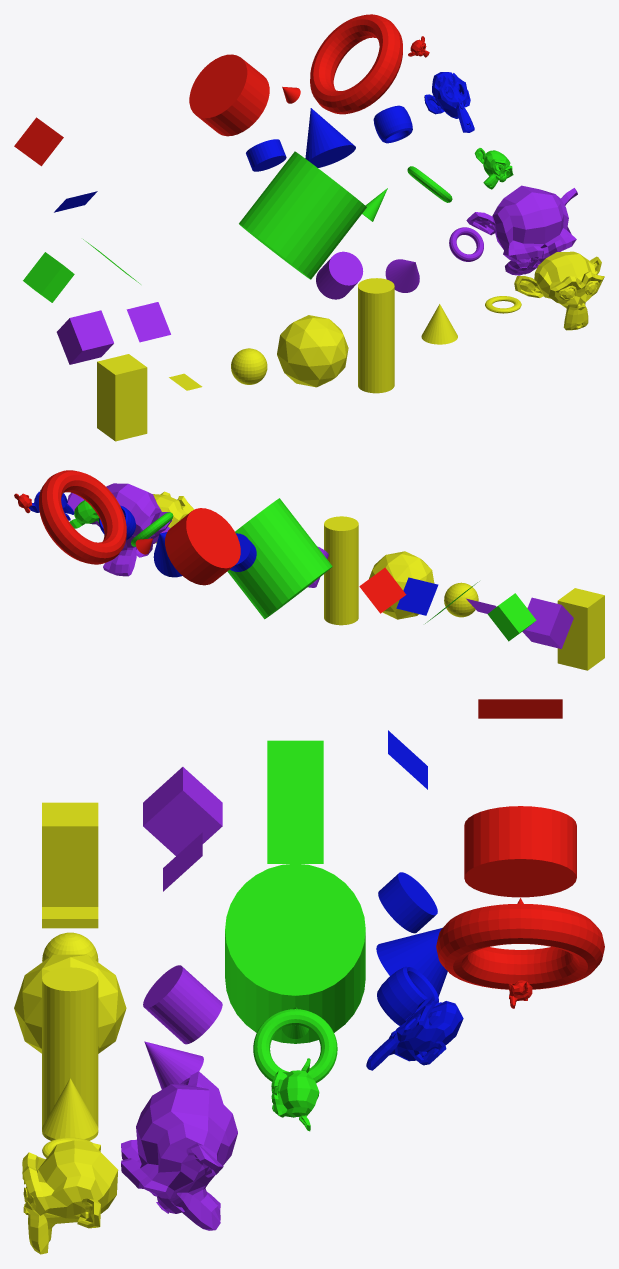
Rendered from shapes.gltf.
The picture shows the model from 3 angles, top to bottom: view 1: azimuth 30°, elevation 25°; view 2: azimuth 150°, elevation 25°; view 3: azimuth 270°, elevation 25°; orthographic projection. The views are drawn at different scales.
Parts seen in each view (by area): view 1: Cylinder.002, Suzanne.001, Torus.004, Cylinder.003, Cylinder, Cube, Icosphere, Suzanne, Cube.001, Suzanne.003, Cone.003, Cylinder.001 (+10 smaller); view 2: Cylinder.002, Torus.004, Cylinder.003, Cylinder, Cube, Suzanne.001, Cube.001, Icosphere, Cube.002, Plane.004, Plane.003, Sphere (+7 smaller); view 3: Cylinder.002, Suzanne.001, Torus.004, Cylinder.003, Cylinder, Suzanne, Cube, Plane.002, Cube.001, Icosphere, Cylinder.001, Suzanne.003 (+12 smaller).
Part boxes in pixels (bbox=[...]): Cylinder.002: bbox=[239, 151, 366, 279]; Suzanne.001: bbox=[466, 185, 577, 275]; Torus.004: bbox=[310, 14, 402, 114]; Cylinder.003: bbox=[189, 54, 269, 136]; Cylinder: bbox=[358, 278, 394, 393]; Cube: bbox=[97, 354, 147, 441]; Icosphere: bbox=[277, 315, 348, 387]; Suzanne: bbox=[514, 251, 604, 330]; Cube.001: bbox=[56, 310, 113, 364]; Suzanne.003: bbox=[424, 72, 474, 132]; Cone.003: bbox=[305, 108, 355, 167]; Cylinder.001: bbox=[316, 251, 363, 299]; Cylinder.002: bbox=[227, 498, 332, 619]; Torus.004: bbox=[39, 470, 126, 564]; Cylinder.003: bbox=[165, 508, 240, 585]; Cylinder: bbox=[324, 516, 358, 625]; Cube: bbox=[557, 588, 604, 670]; Suzanne.001: bbox=[67, 483, 171, 576]; Cube.001: bbox=[522, 597, 573, 648]; Icosphere: bbox=[369, 551, 434, 619]; Cube.002: bbox=[487, 593, 536, 641]; Plane.004: bbox=[359, 567, 406, 613]; Plane.003: bbox=[396, 577, 438, 615]; Sphere: bbox=[444, 582, 478, 617]; Cylinder.002: bbox=[225, 863, 365, 1043]; Suzanne.001: bbox=[121, 1071, 237, 1230]; Torus.004: bbox=[436, 903, 604, 989]; Cylinder.003: bbox=[464, 806, 576, 897]; Cylinder: bbox=[42, 967, 98, 1140]; Suzanne: bbox=[22, 1140, 118, 1254]; Cube: bbox=[42, 802, 98, 928]; Plane.002: bbox=[267, 758, 323, 863]; Cube.001: bbox=[143, 767, 222, 855]; Icosphere: bbox=[14, 954, 126, 1053]; Cylinder.001: bbox=[143, 965, 222, 1044]; Suzanne.003: bbox=[366, 997, 463, 1070].
Size of what is drawn, in the model's own units: 16.24 by 6.68 by 10.5.
